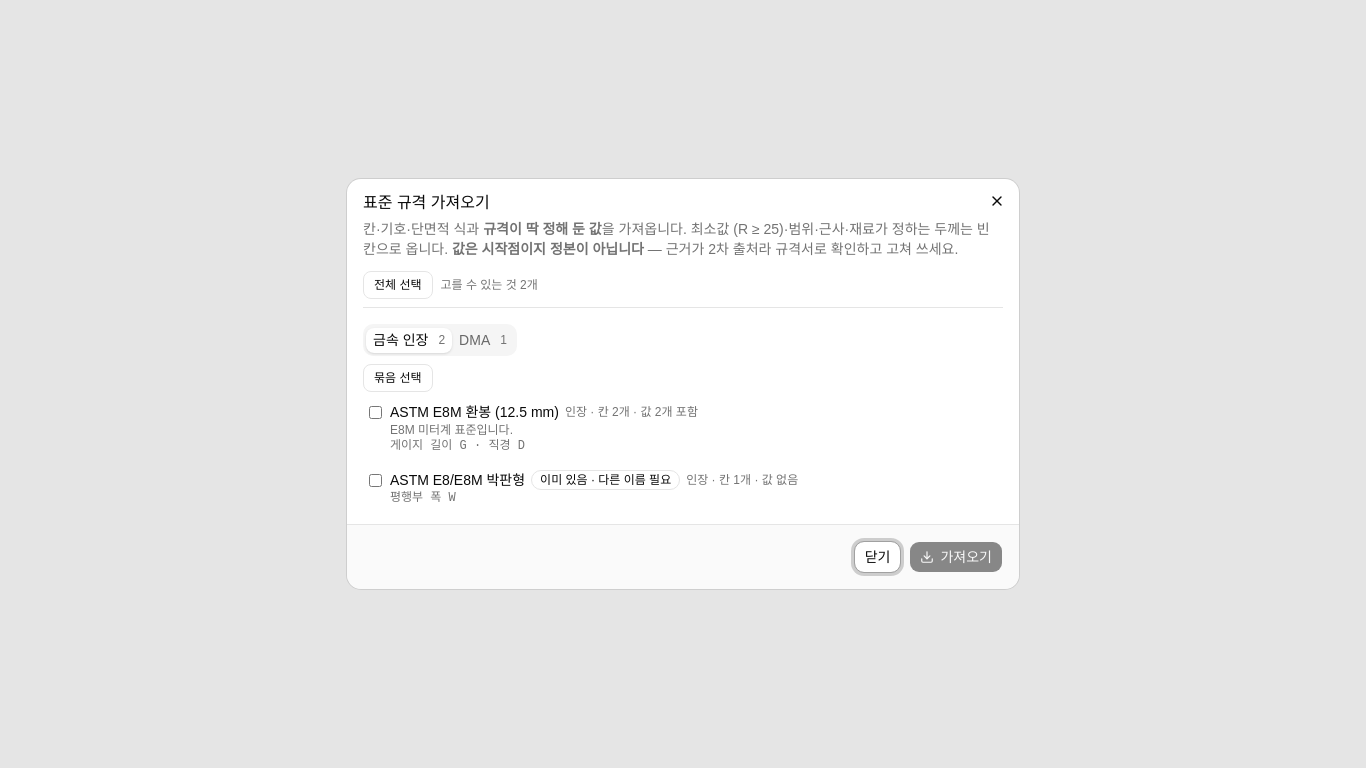
표준 규격 가져오기 › 비율 조건이 몇 개인지 미리 보여 준다
The image size is (1366, 768).
Click the tab "DMA 1". click: [483, 340]
box: [452,328,514,352]
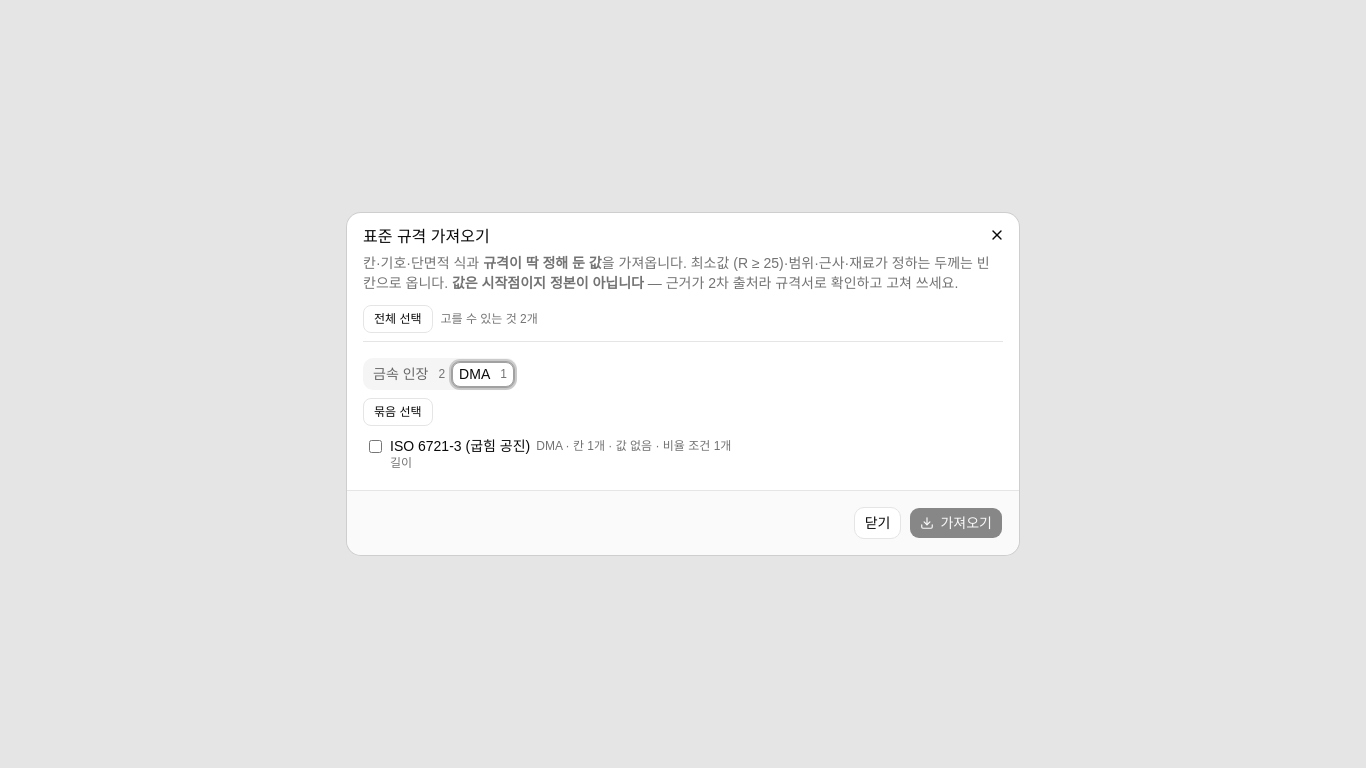
Check: the text "DMA · 칸 1개 · 값 없음 · 비율 조건 1개" is shown, box [536,438,731,454]
